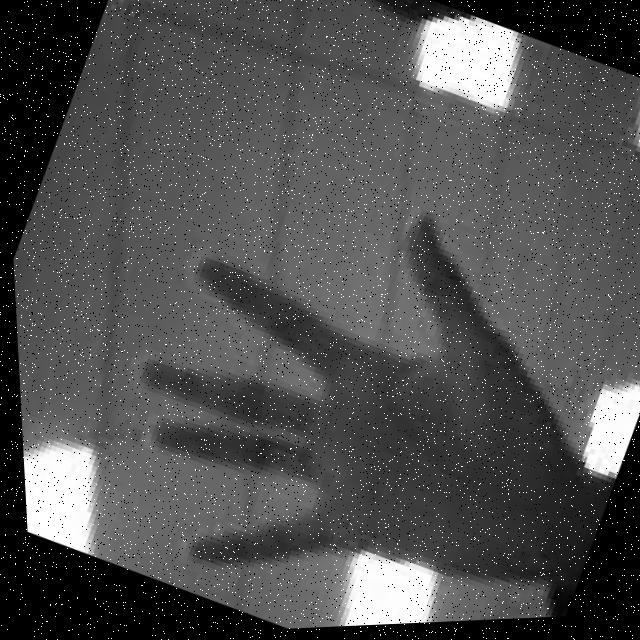no-gloves: (49, 114, 640, 638)
